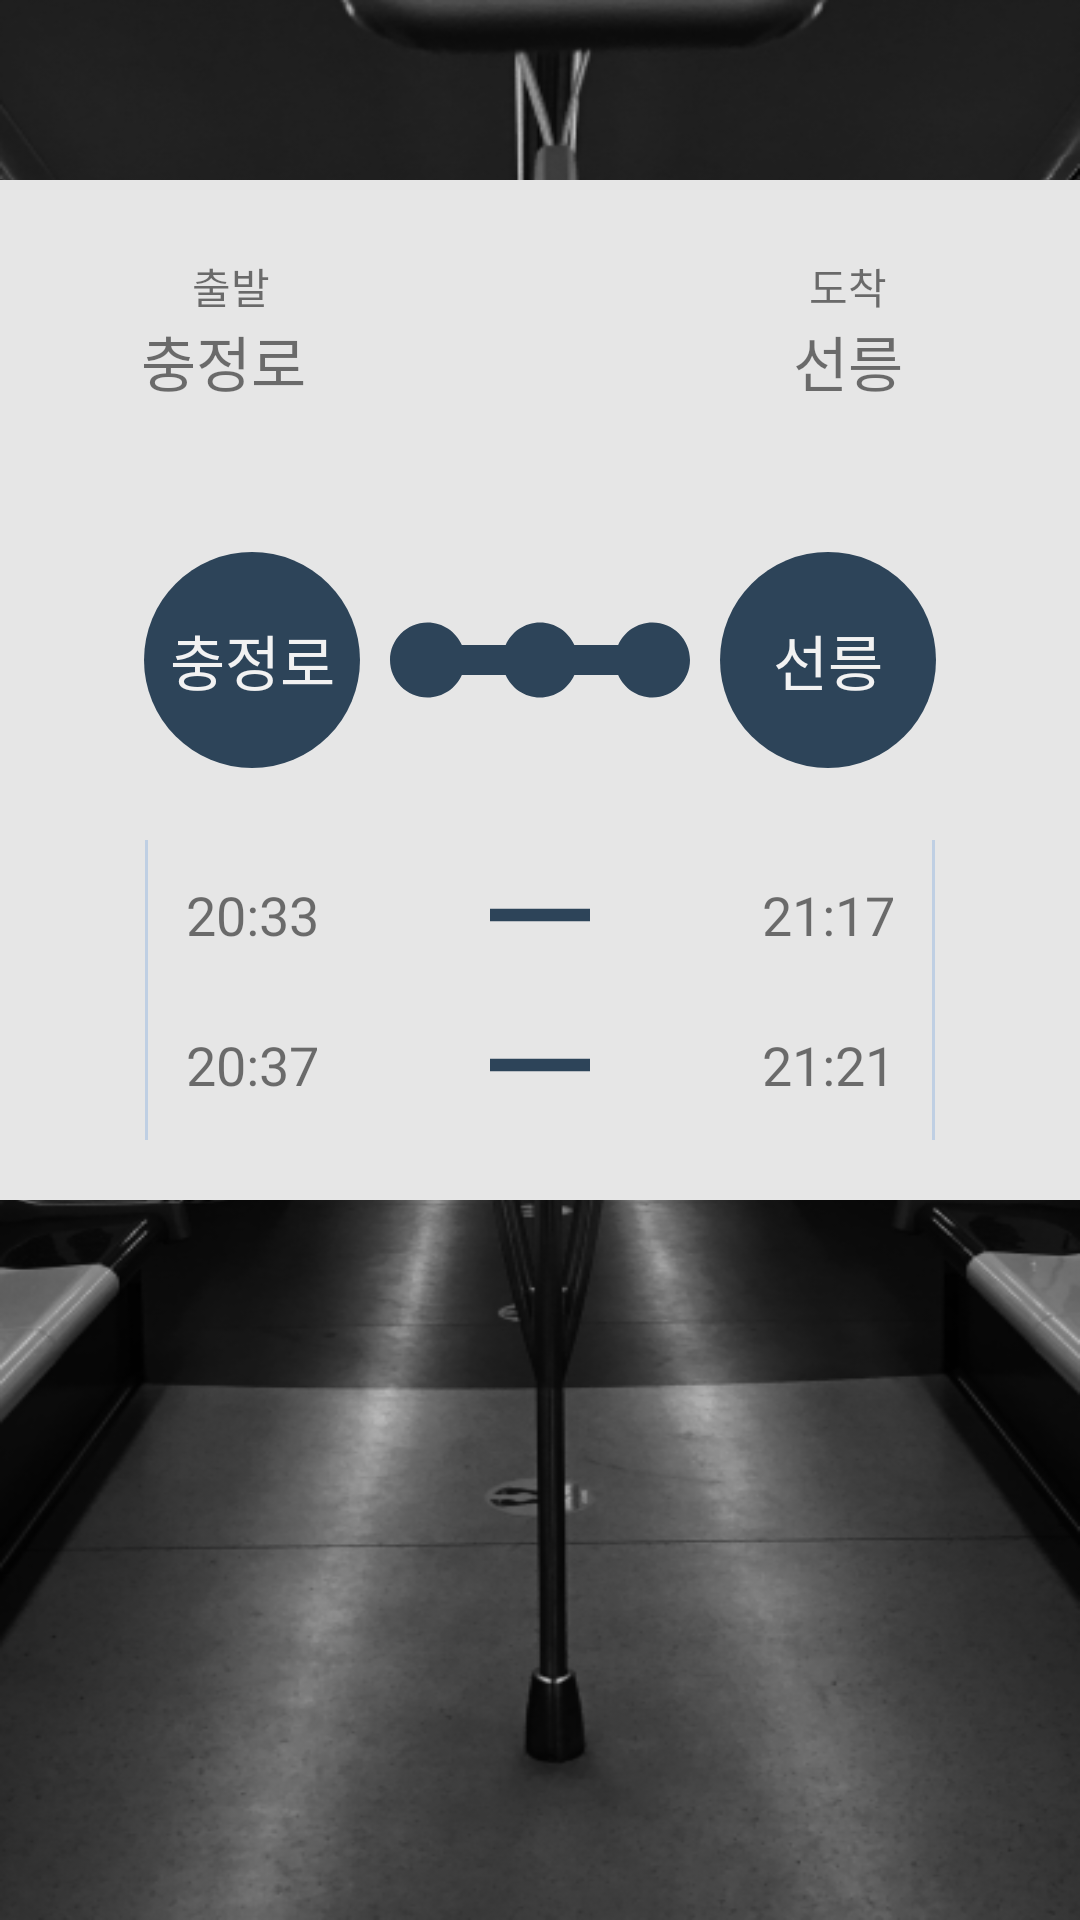

Icon bounding boxes for this 1080 x 1920 phone screenshot, format {"left": x1, "top": y1, "right": x2, "bottom": y2}:
linear scale: {"left": 390, "top": 622, "right": 690, "bottom": 698}
